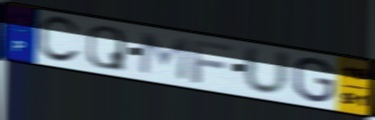C: (35, 15, 83, 65)
F: (190, 38, 236, 86)
G: (291, 56, 337, 104)
M: (137, 30, 191, 83)
Q: (84, 24, 127, 74)
U: (241, 43, 292, 99)
